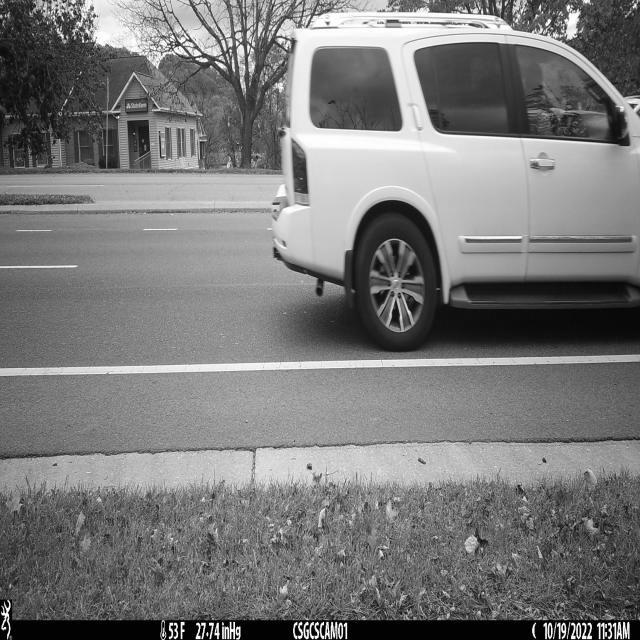SUV: (270, 12, 640, 354)
